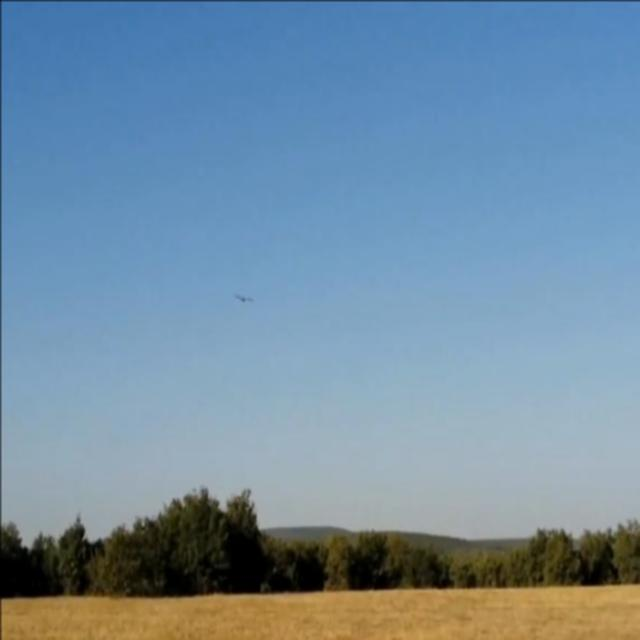plane: (232, 291, 254, 302)
